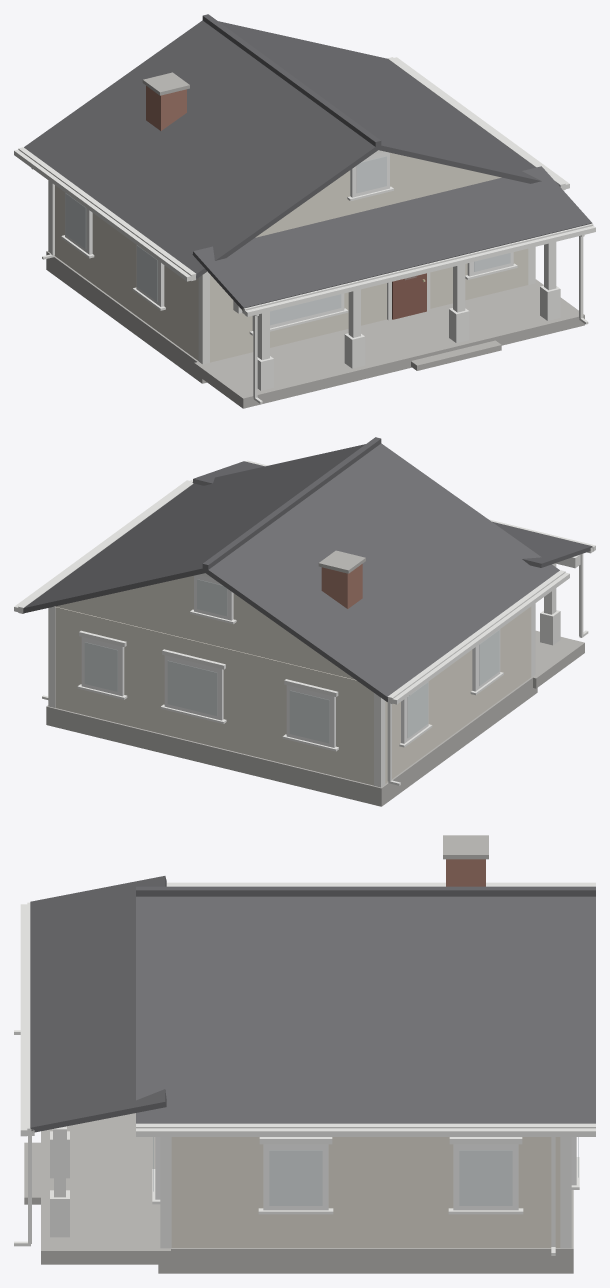
The model's file is house-craftsman.glb.
3 views of the same model, one above another, from view 1: azimuth 30°, elevation 25°; view 2: azimuth 150°, elevation 25°; view 3: azimuth 270°, elevation 25° (orthographic). The views are drawn at different scales.
Parts seen in each view (by area): view 1: Roof_Slope_B, Porch_Roof, Roof_Slope_A, Porch_Deck, Body_Left, Body_Front, Roof_GableFill_A, Foundation, Porch_Gutter_Gutter, Roof_Ridge, Gutter_L_Gutter, Window_Front_03_Frame (+25 smaller); view 2: Roof_Slope_B, Body_Back, Roof_Slope_A, Foundation, Roof_GableFill_B, Body_Left, Window_Back_02_Frame, Window_Back_01_Frame, Porch_Roof, Window_Back_03_Frame, Window_Back_02_Glass, Roof_Ridge (+18 smaller); view 3: Roof_Slope_A, Body_Right, Porch_Roof, Porch_Deck, Foundation, Roof_Ridge, Window_Right_01_Frame, Window_Right_02_Frame, Gutter_R_Gutter, Window_Right_01_Glass, Window_Right_02_Glass, Trim_Fascia_A (+13 smaller).
Boxes of the visible parts, bbox=[...] form: Roof_Slope_B: bbox=[24, 20, 377, 279]; Porch_Roof: bbox=[192, 166, 592, 311]; Roof_Slope_A: bbox=[218, 21, 560, 186]; Porch_Deck: bbox=[194, 279, 584, 408]; Body_Left: bbox=[54, 185, 198, 360]; Body_Front: bbox=[210, 248, 528, 362]; Roof_GableFill_A: bbox=[255, 152, 501, 237]; Foundation: bbox=[46, 251, 537, 383]; Porch_Gutter_Gutter: bbox=[245, 226, 595, 316]; Roof_Ridge: bbox=[202, 14, 381, 146]; Gutter_L_Gutter: bbox=[14, 149, 191, 281]; Window_Front_03_Frame: bbox=[350, 152, 389, 197]; Roof_Slope_B: bbox=[206, 443, 559, 701]; Body_Back: bbox=[54, 606, 373, 785]; Roof_Slope_A: bbox=[23, 444, 365, 613]; Foundation: bbox=[46, 677, 537, 806]; Roof_GableFill_B: bbox=[55, 575, 355, 679]; Body_Left: bbox=[385, 606, 531, 783]; Window_Back_02_Frame: bbox=[164, 655, 223, 720]; Window_Back_01_Frame: bbox=[286, 685, 335, 747]; Porch_Roof: bbox=[192, 461, 592, 567]; Window_Back_03_Frame: bbox=[81, 637, 124, 696]; Window_Back_02_Glass: bbox=[168, 661, 216, 715]; Roof_Ridge: bbox=[202, 437, 381, 570]; Roof_Slope_A: bbox=[136, 896, 595, 1123]; Body_Right: bbox=[171, 1137, 560, 1247]; Porch_Roof: bbox=[30, 876, 166, 1132]; Porch_Deck: bbox=[41, 1113, 170, 1264]; Foundation: bbox=[158, 1190, 573, 1273]; Roof_Ridge: bbox=[136, 886, 595, 896]; Window_Right_01_Frame: bbox=[453, 1144, 518, 1210]; Window_Right_02_Frame: bbox=[263, 1144, 328, 1210]; Gutter_R_Gutter: bbox=[136, 1128, 595, 1136]; Window_Right_01_Glass: bbox=[459, 1150, 512, 1205]; Window_Right_02_Glass: bbox=[269, 1150, 322, 1205]; Trim_Fascia_A: bbox=[136, 1123, 595, 1128].
Bounding box in the file's own units: 11.76 × 6.09 × 11.64.
